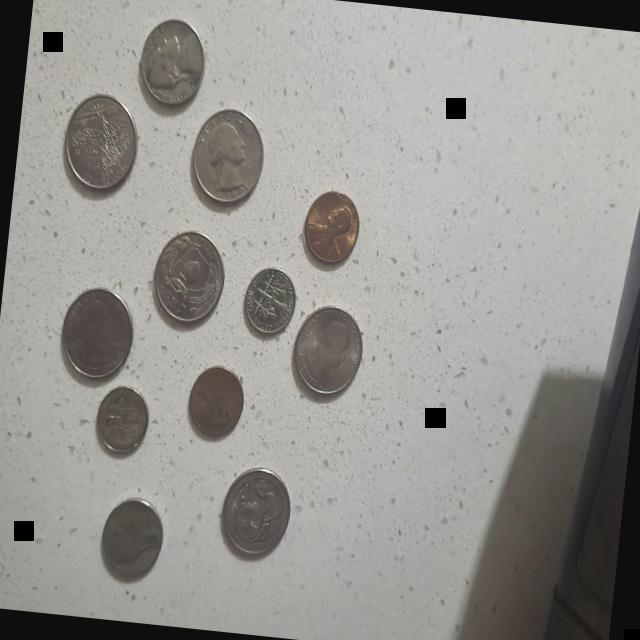Dime: (89, 382, 158, 457), (240, 264, 300, 337)
Nickel: (128, 16, 208, 118), (92, 490, 170, 589)
Penny: (298, 184, 366, 269), (182, 362, 248, 442)
Quarter: (180, 102, 272, 220), (55, 86, 146, 202), (280, 300, 372, 410), (54, 276, 138, 385), (144, 228, 230, 333), (213, 456, 295, 566)
